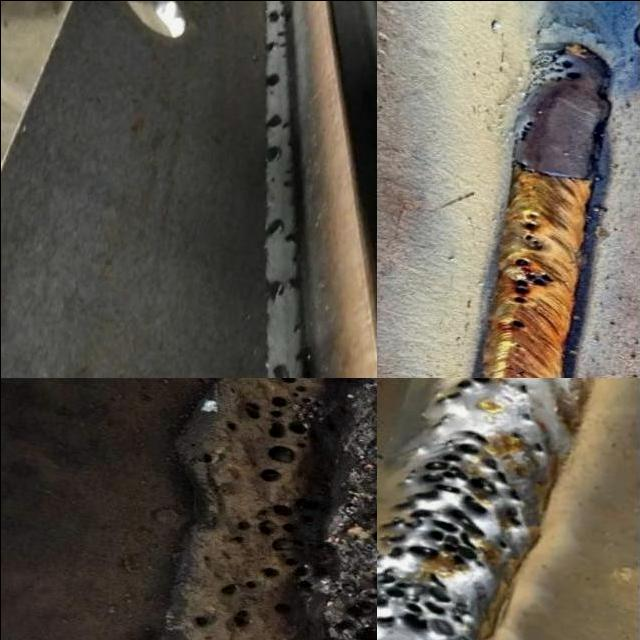defect: (377, 424, 532, 640), (189, 492, 325, 631), (225, 377, 322, 486), (328, 559, 377, 640), (506, 254, 561, 307), (523, 50, 584, 96), (428, 377, 498, 412), (186, 448, 231, 471), (521, 209, 545, 249), (264, 275, 287, 309), (263, 28, 287, 57), (262, 69, 281, 97), (264, 213, 285, 237), (264, 111, 291, 129), (271, 356, 294, 377), (517, 117, 535, 142), (509, 380, 535, 395), (294, 344, 313, 364), (265, 141, 281, 164), (266, 6, 285, 25), (283, 229, 302, 246), (502, 363, 525, 376), (507, 318, 531, 330), (282, 164, 294, 187), (287, 274, 301, 291), (530, 439, 546, 452), (291, 319, 304, 333), (518, 410, 536, 420), (508, 430, 523, 439), (509, 339, 523, 348), (288, 252, 300, 261), (268, 174, 277, 185)
